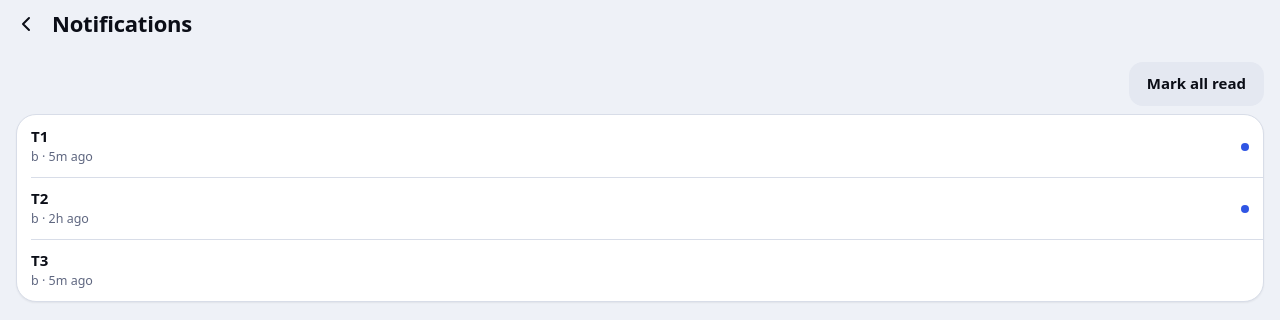
Test: Notification centre › Mark all read posts read-all
Step 1. Click the button "Mark all read" → (1196, 84), box [1129,62,1264,106]
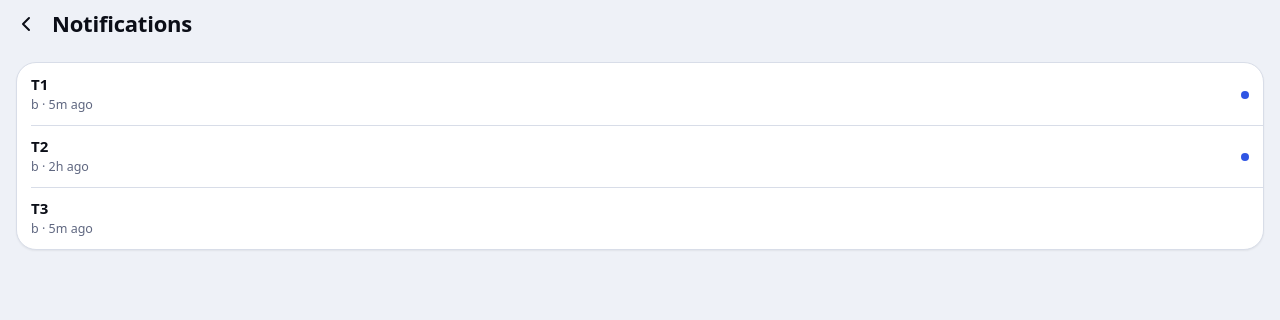
Check: the button "Mark all read" is gone
